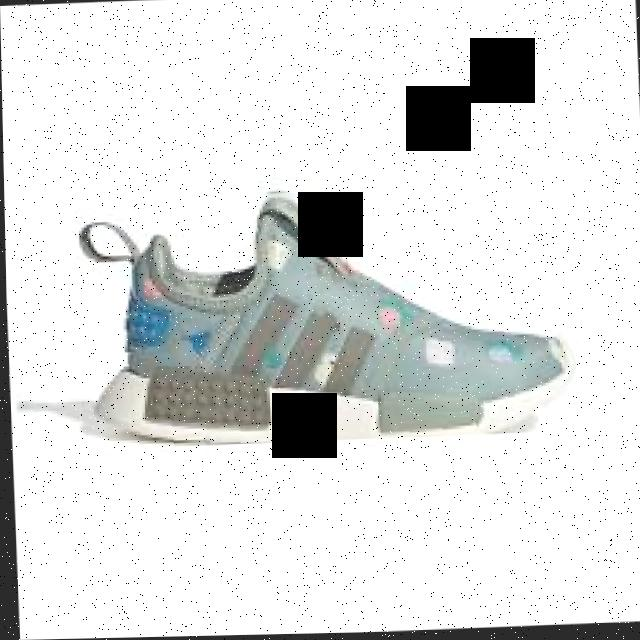shoe: (73, 178, 578, 450)
